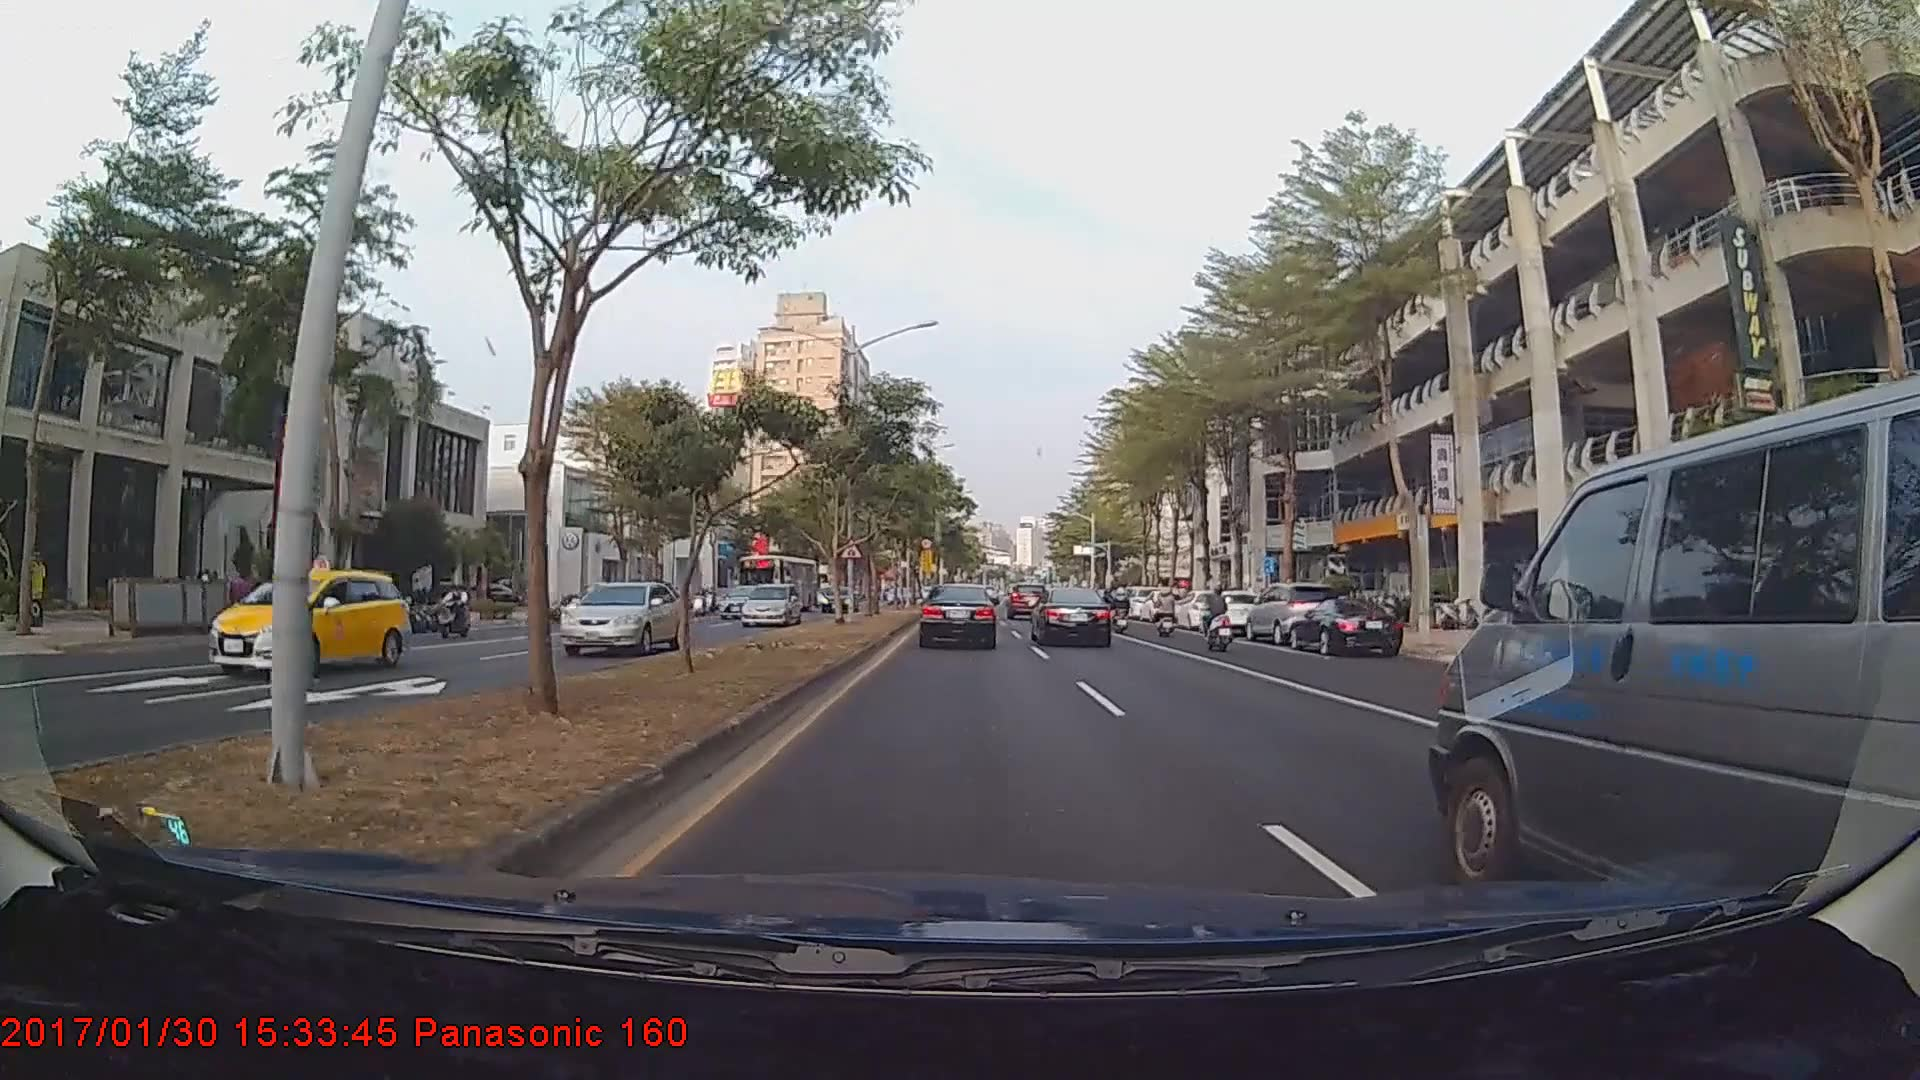rider: (1199, 585, 1238, 657), (437, 579, 478, 644), (1148, 583, 1180, 642), (1109, 585, 1132, 635)
vehicle: (1441, 406, 1910, 906), (204, 565, 409, 682), (562, 580, 685, 654), (1248, 583, 1346, 649), (1288, 599, 1403, 654), (917, 582, 999, 650), (736, 552, 820, 617), (1031, 585, 1114, 648), (1198, 588, 1263, 635), (737, 581, 803, 627), (1004, 583, 1050, 621), (714, 585, 763, 619), (816, 583, 859, 613)
